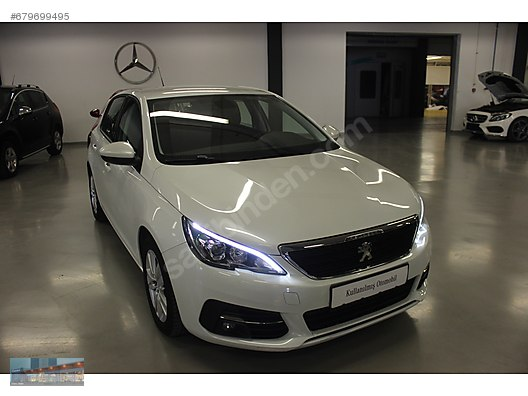peugeot: (88, 86, 448, 349)
